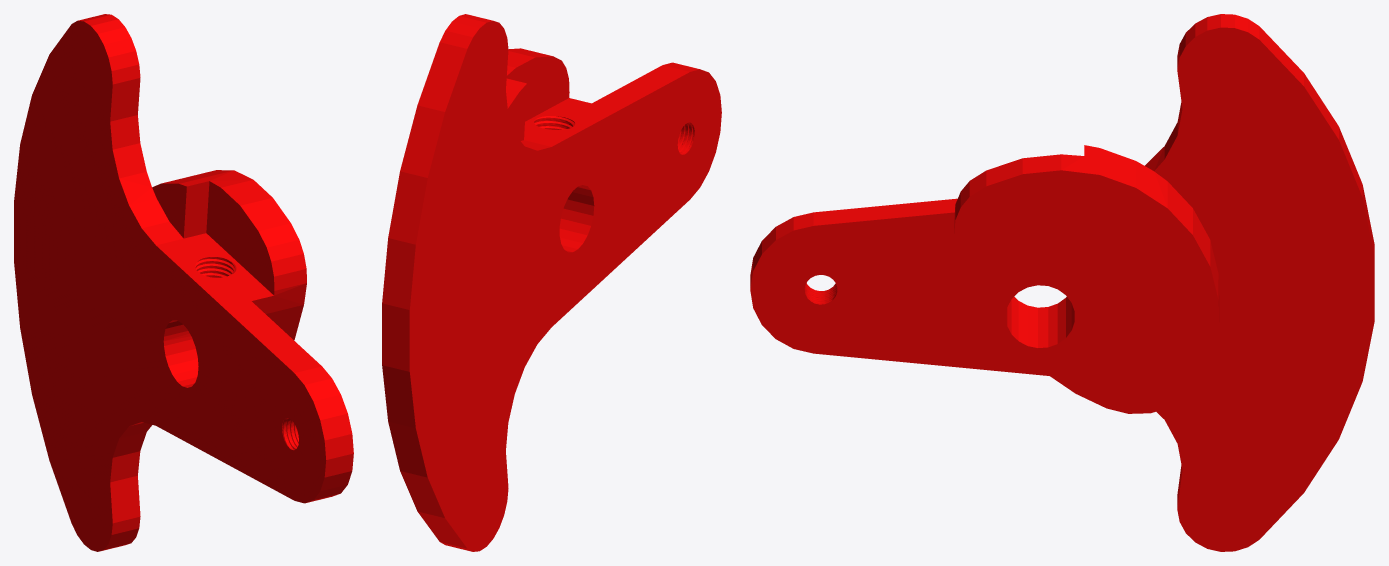
The model's file is crank.glb.
3 renders of one model, left to right at view 1: azimuth 30°, elevation 25°; view 2: azimuth 150°, elevation 25°; view 3: azimuth 270°, elevation 25°, orthographic.
Visible parts, largest first — view 1: Node1; view 2: Node1; view 3: Node1.
Part boxes in pixels (box(x1,y1,x2,y2)): Node1: box(14, 14, 353, 551); Node1: box(382, 14, 721, 551); Node1: box(750, 14, 1374, 551).
Bounding box in the file's own units: 4.37 × 26.38 × 28.47.
